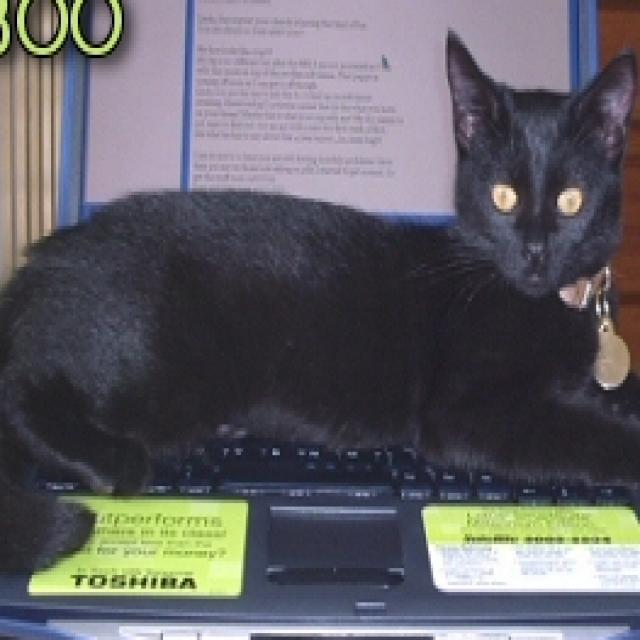Bombay: (0, 21, 640, 578)
